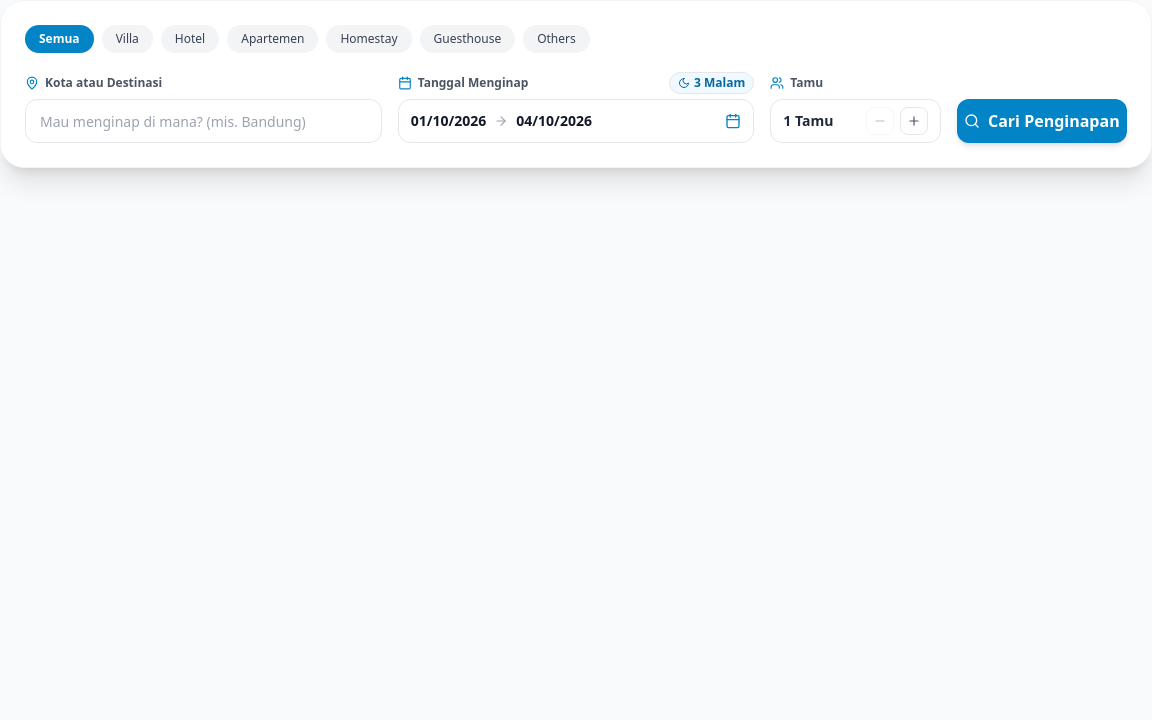
Scenario: FloatingSearchWidget Organism › opens date picker popover and formats dates as dd/mm/yyyy
Check: the text "01/10/2026" is shown, box [411,111,486,131]
Check: the text "04/10/2026" is shown, box [516,111,592,131]
Click the button named "Pilih rentang tanggal menginap" at (576, 121), box [398,99,754,143]
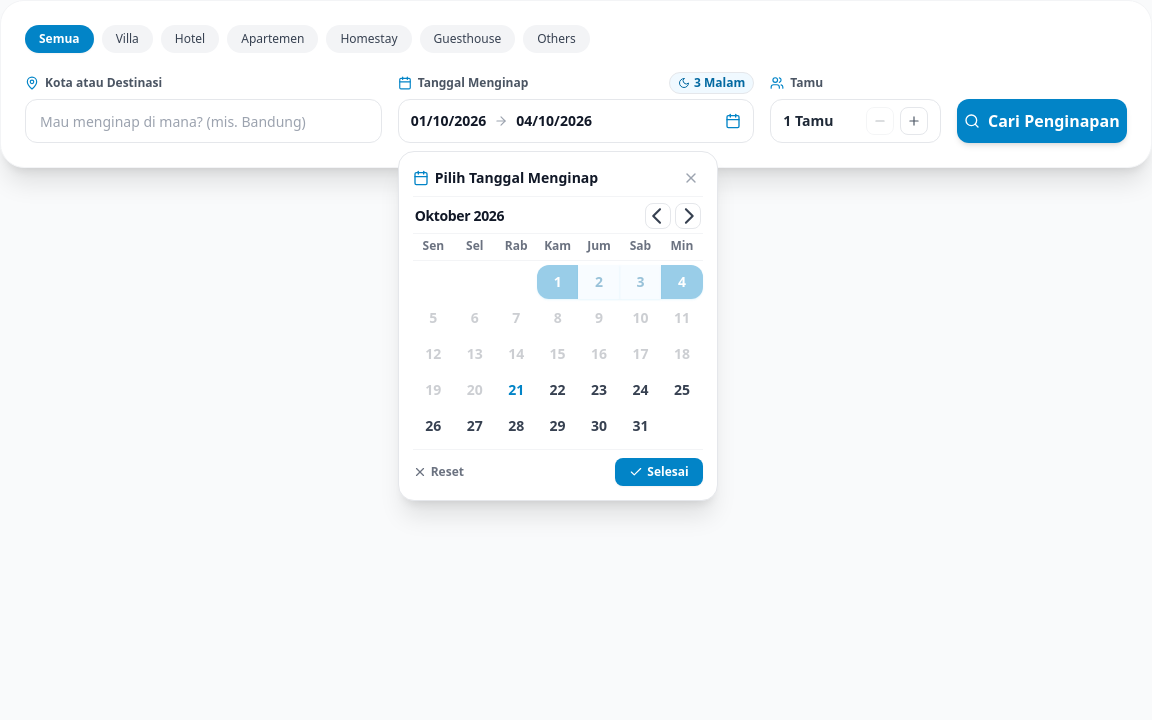
Check: the button "Selesai" is shown, box [615,458,703,486]
Check: the button "Reset" is shown, box [413,464,464,480]
